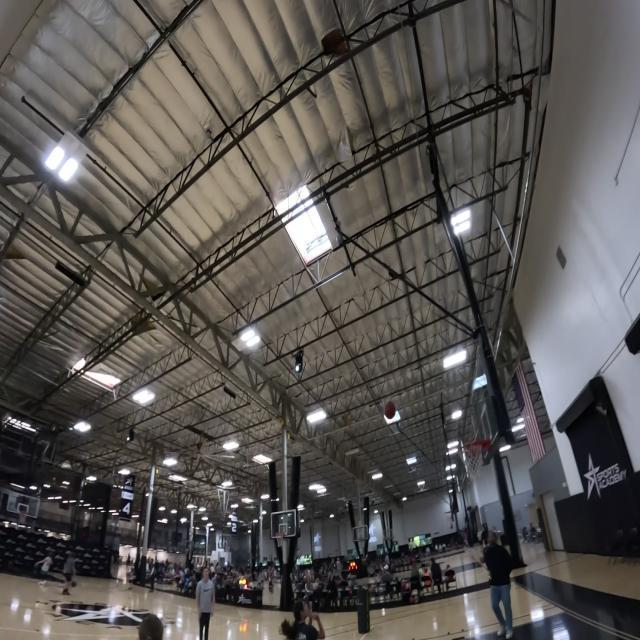hoop: (272, 519, 291, 547), (273, 530, 288, 546)
